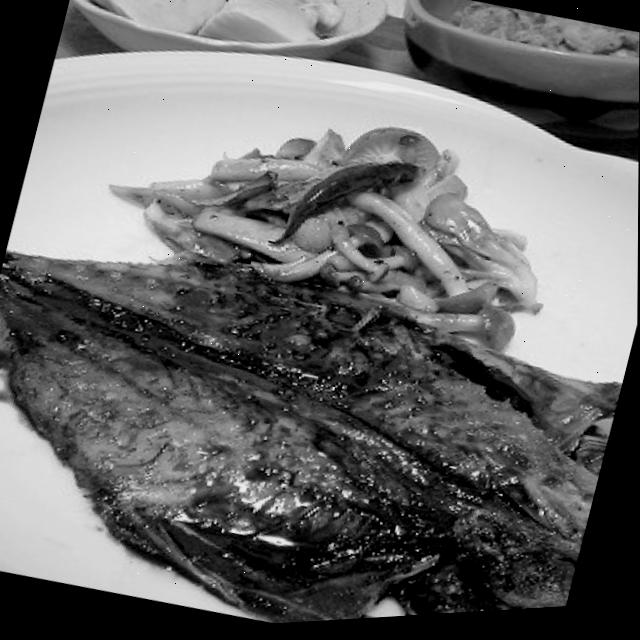熟制海鲜: (0, 208, 630, 640)
